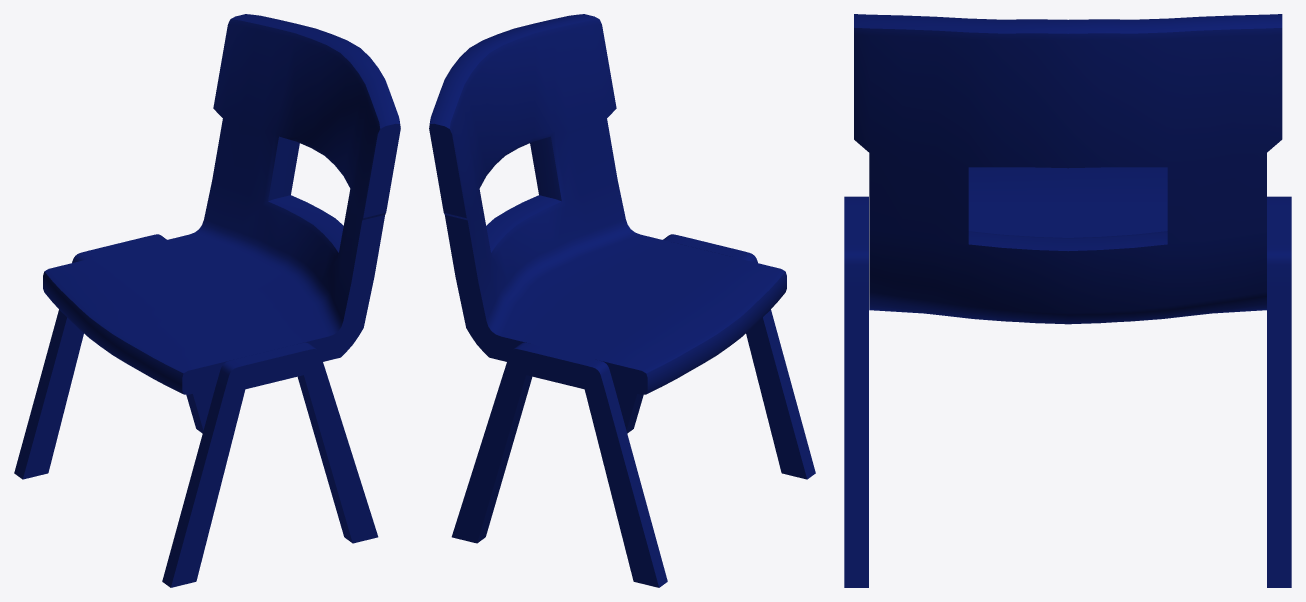
File: Chair.fbx
The picture shows the model from 3 angles, left to right: view 1: azimuth 30°, elevation 25°; view 2: azimuth 150°, elevation 25°; view 3: azimuth 270°, elevation 25°; orthographic projection. The views are drawn at different scales.
Visible parts, largest first — view 1: Chair, Chair Legs; view 2: Chair, Chair Legs; view 3: Chair, Chair Legs.
Boxes of the visible parts, x1,y1,x2,y2 form: Chair: [43, 14, 400, 394]; Chair Legs: [14, 234, 378, 587]; Chair: [429, 14, 786, 394]; Chair Legs: [451, 234, 815, 587]; Chair: [854, 14, 1282, 324]; Chair Legs: [844, 196, 1291, 587].
Bounding box in the file's own units: 0.4674 × 0.6967 × 0.4722.
